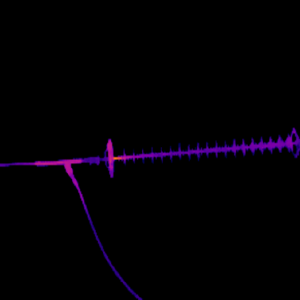insulator: (106, 126, 300, 177)
